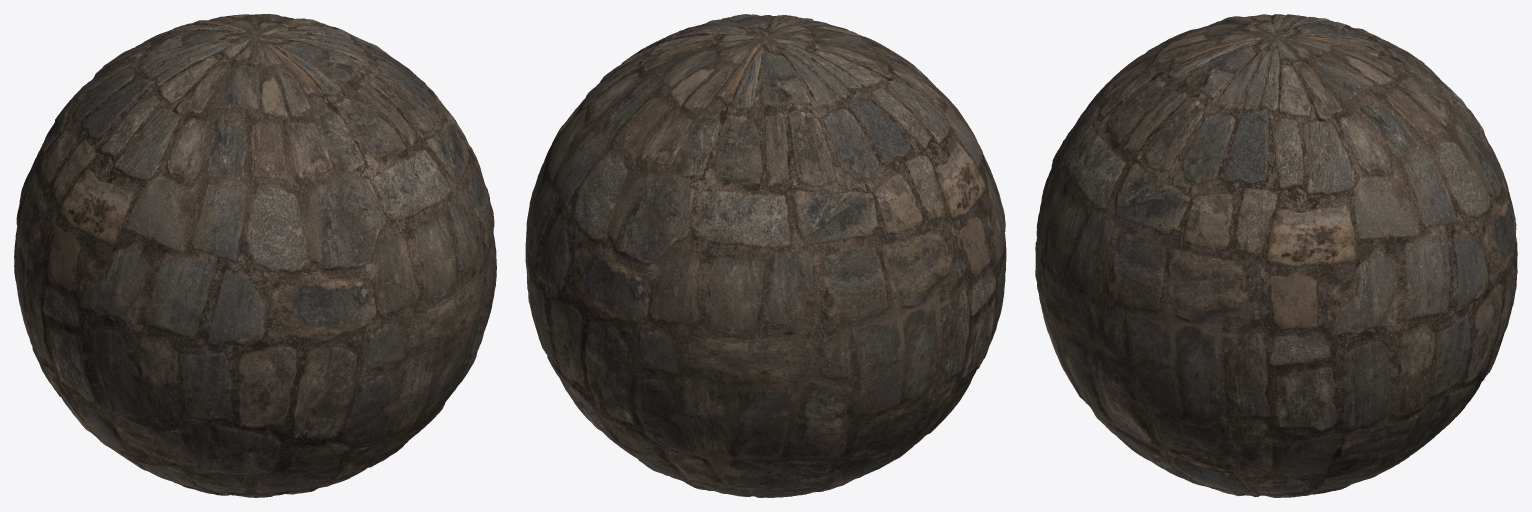
The model's file is cobblestone_floor_06_1k.gltf.
The picture shows the model from 3 angles, left to right: view 1: azimuth 30°, elevation 25°; view 2: azimuth 150°, elevation 25°; view 3: azimuth 270°, elevation 25°; orthographic projection.
Visible parts, largest first — view 1: sphere_gltf; view 2: sphere_gltf; view 3: sphere_gltf.
Boxes of the visible parts, <box> form: sphere_gltf: <box>14,14,496,497</box>; sphere_gltf: <box>525,14,1006,497</box>; sphere_gltf: <box>1035,14,1517,497</box>.
Bounding box in the file's own units: 2.02 × 2.02 × 2.01.
1 material, 1 textured.
